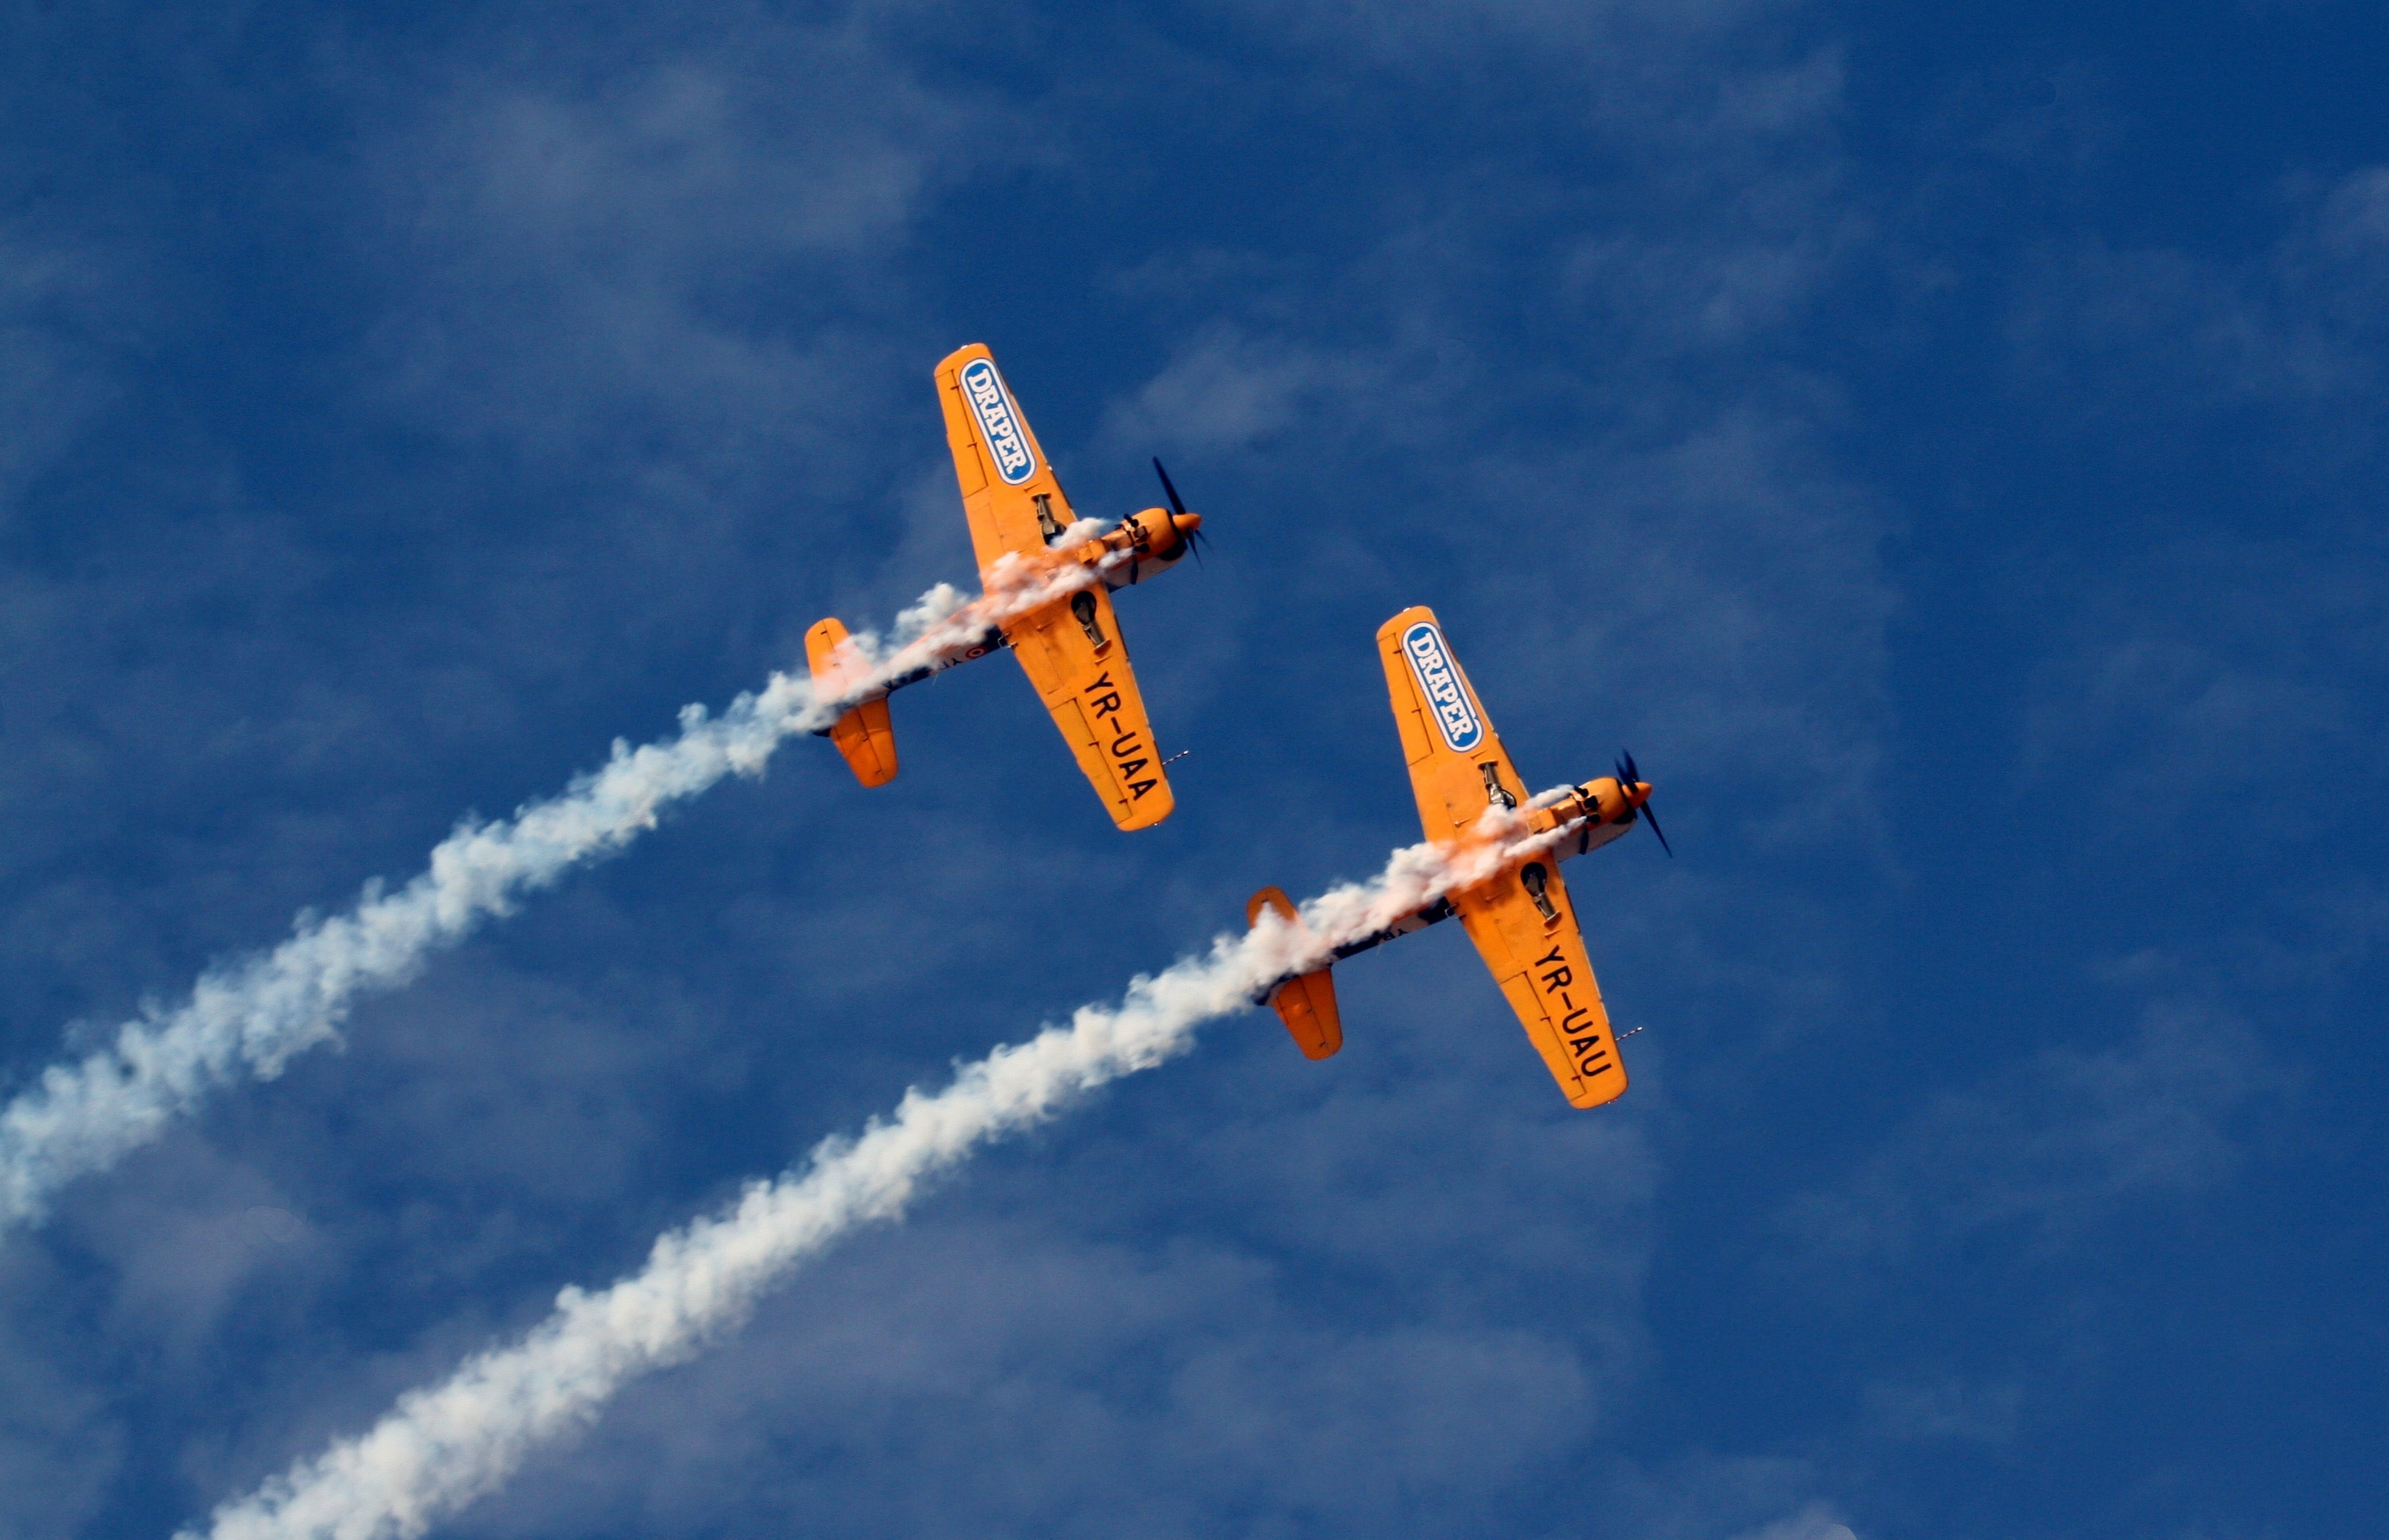airplane: (1210, 472, 1708, 1289)
